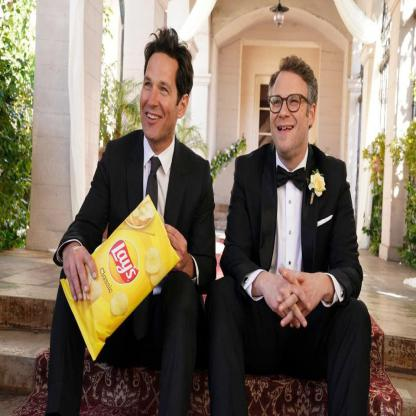potatochip: (64, 192, 180, 362)
